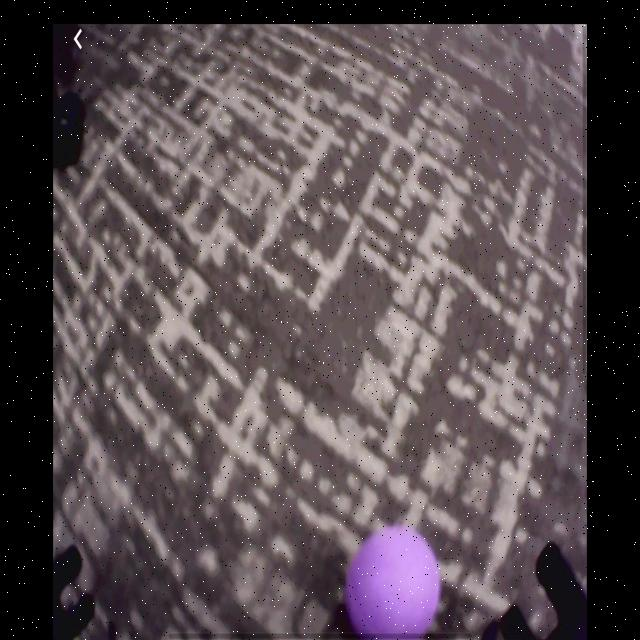ball: (348, 524, 439, 640)
